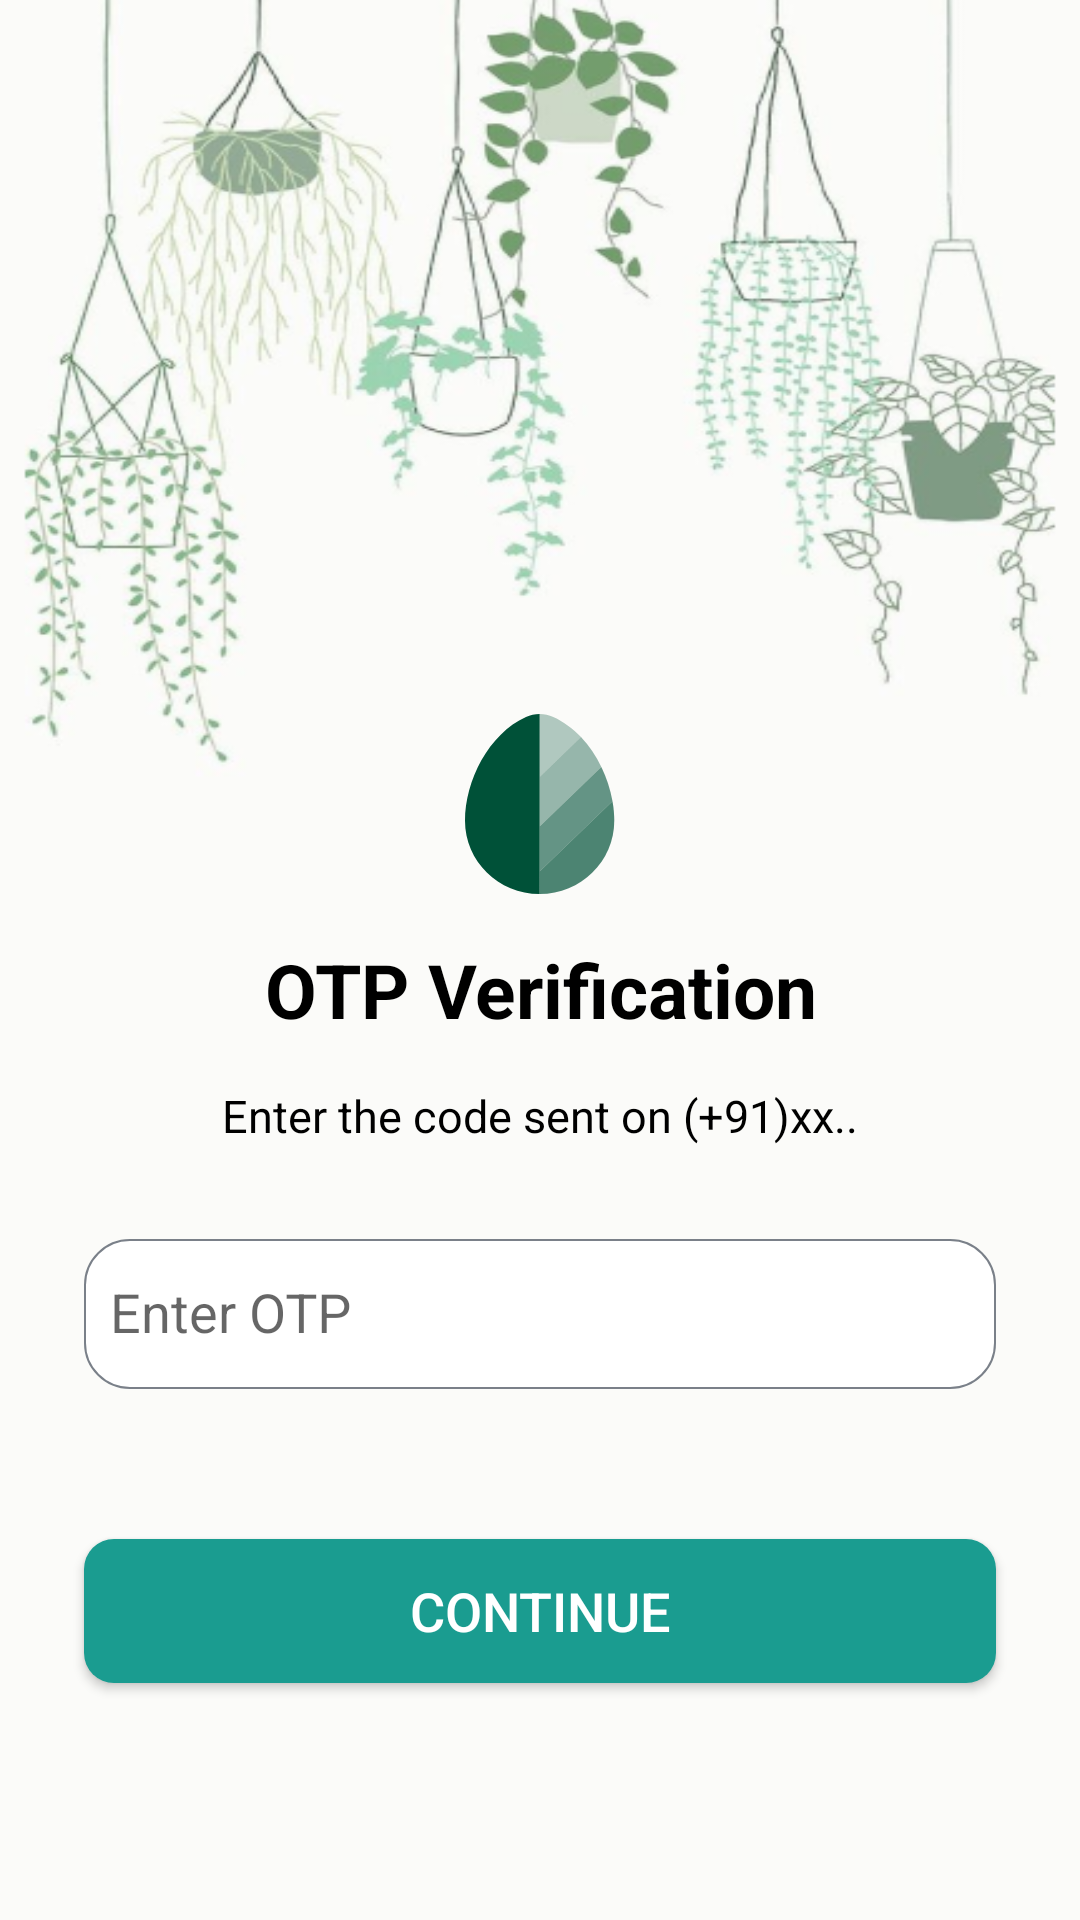

Icons on this 1080px x 1920px Android screen, each with its box as (x1, y1, x2, y2):
singleleaf: (465, 714, 615, 894)
